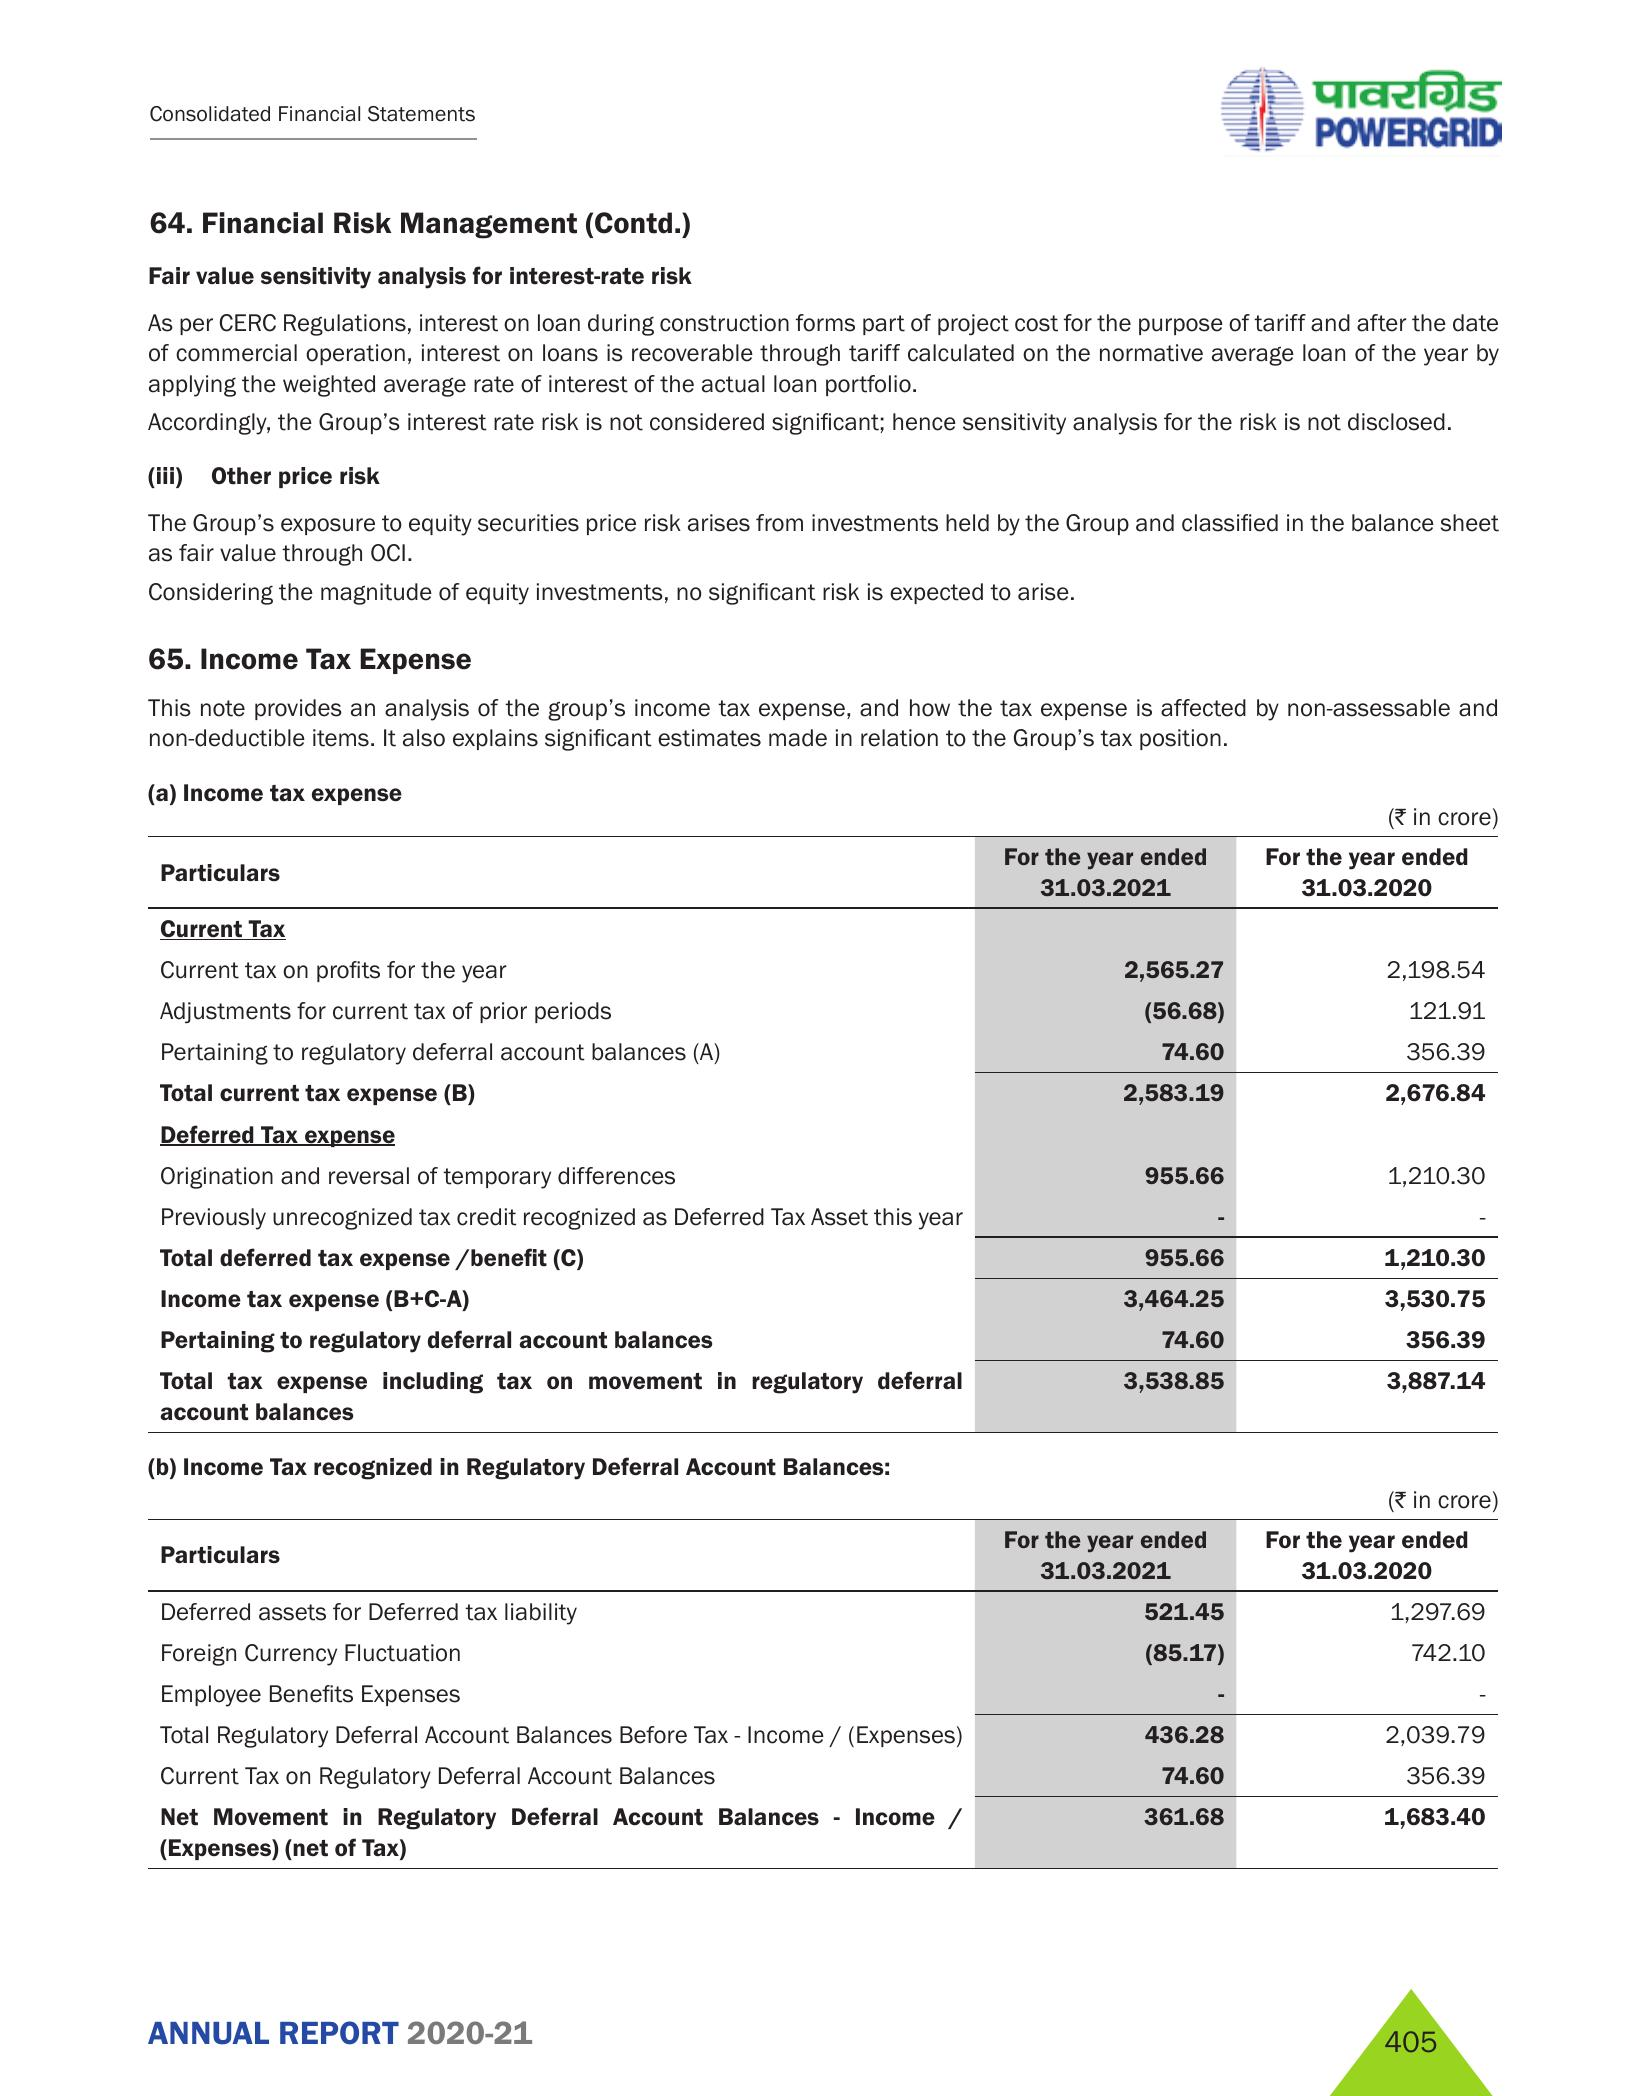Footer: (0, 1956, 1650, 2096)
Header: (0, 0, 1650, 163)
Table: (105, 839, 1521, 1426), (102, 1519, 1528, 1863)
